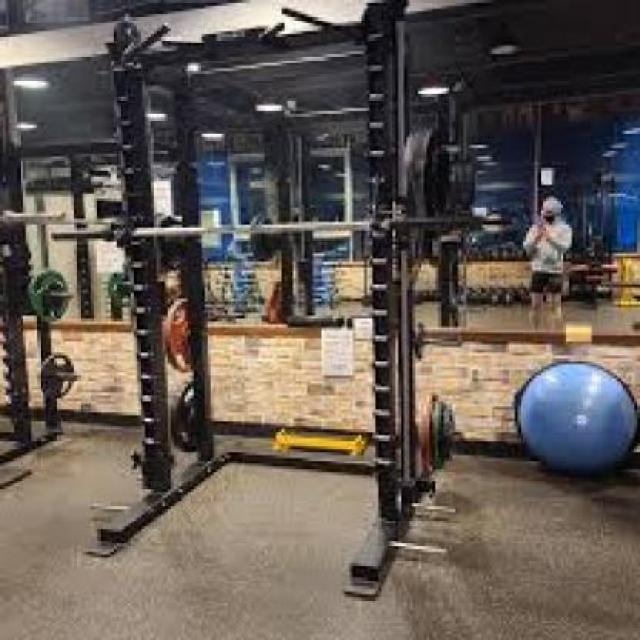smith machine: (83, 2, 460, 600)
